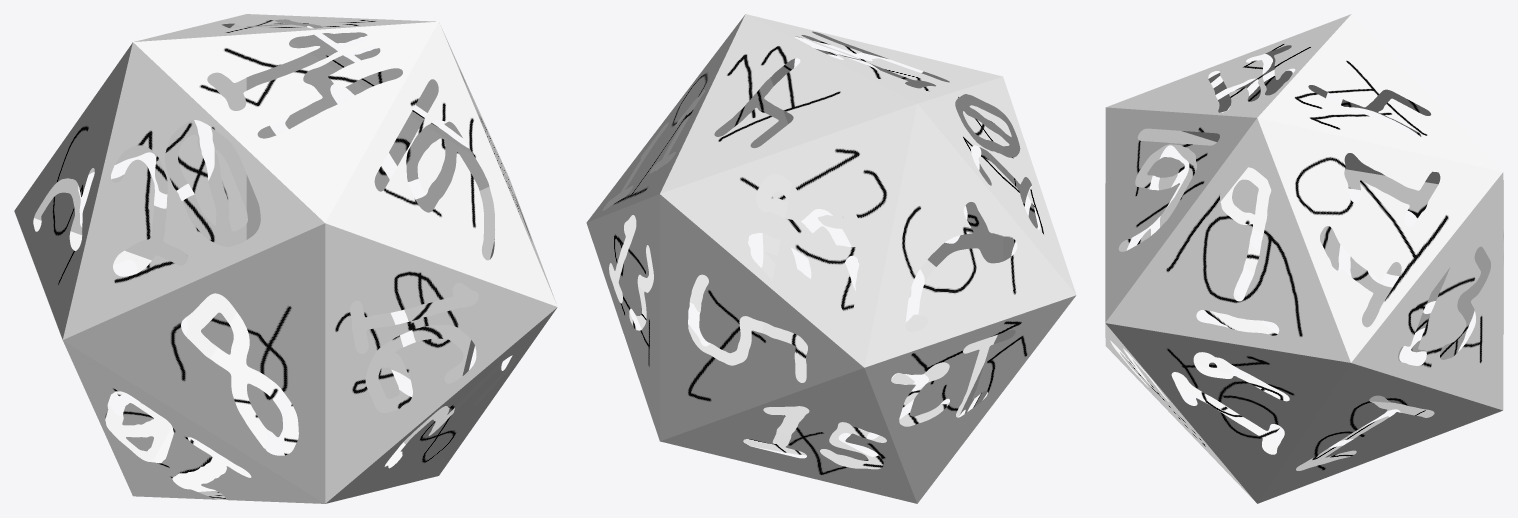
3 views of the same model, side by side, from view 1: azimuth 30°, elevation 25°; view 2: azimuth 150°, elevation 25°; view 3: azimuth 270°, elevation 25° (orthographic). The views are drawn at different scales.
Parts seen in each view (by area): view 1: Icosahedron; view 2: Icosahedron; view 3: Icosahedron.
Boxes of the visible parts, x1,y1,x2,y2 form: Icosahedron: (14,14,557,503); Icosahedron: (586,14,1076,503); Icosahedron: (1105,14,1503,503).
Bounding box in the file's own units: 9826 × 8507 × 7957.
